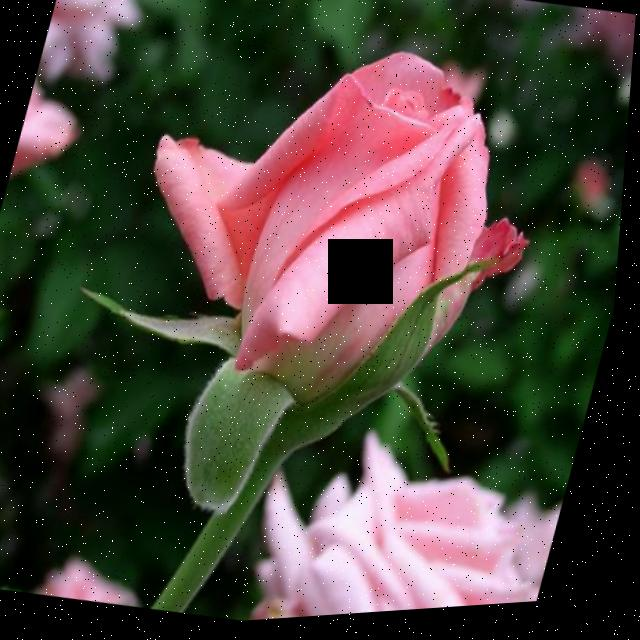rose: (91, 0, 573, 529)
